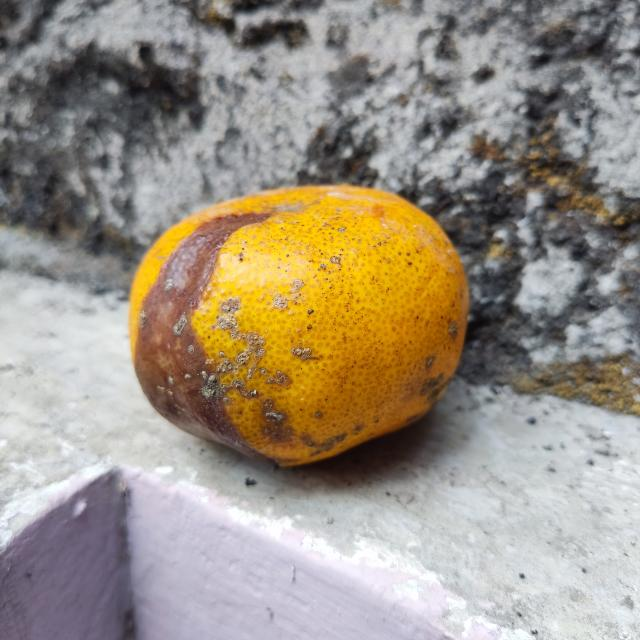orange: (127, 185, 470, 464)
